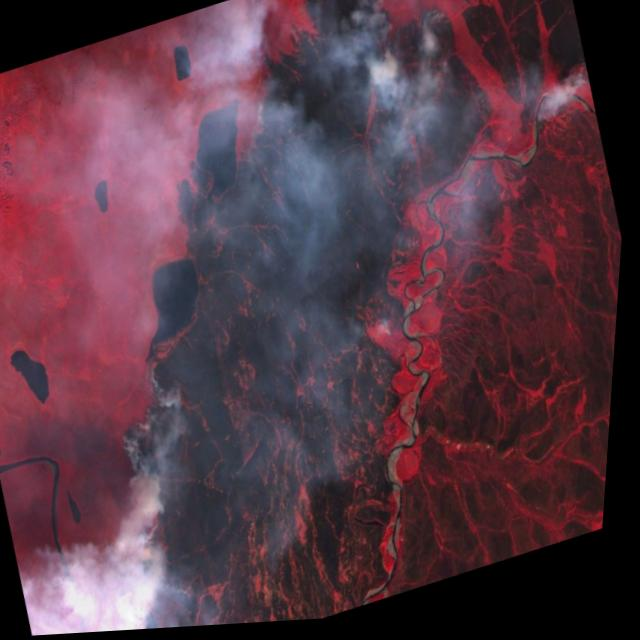fire: (89, 349, 263, 634), (410, 6, 469, 62), (550, 65, 600, 129), (362, 0, 399, 8)
